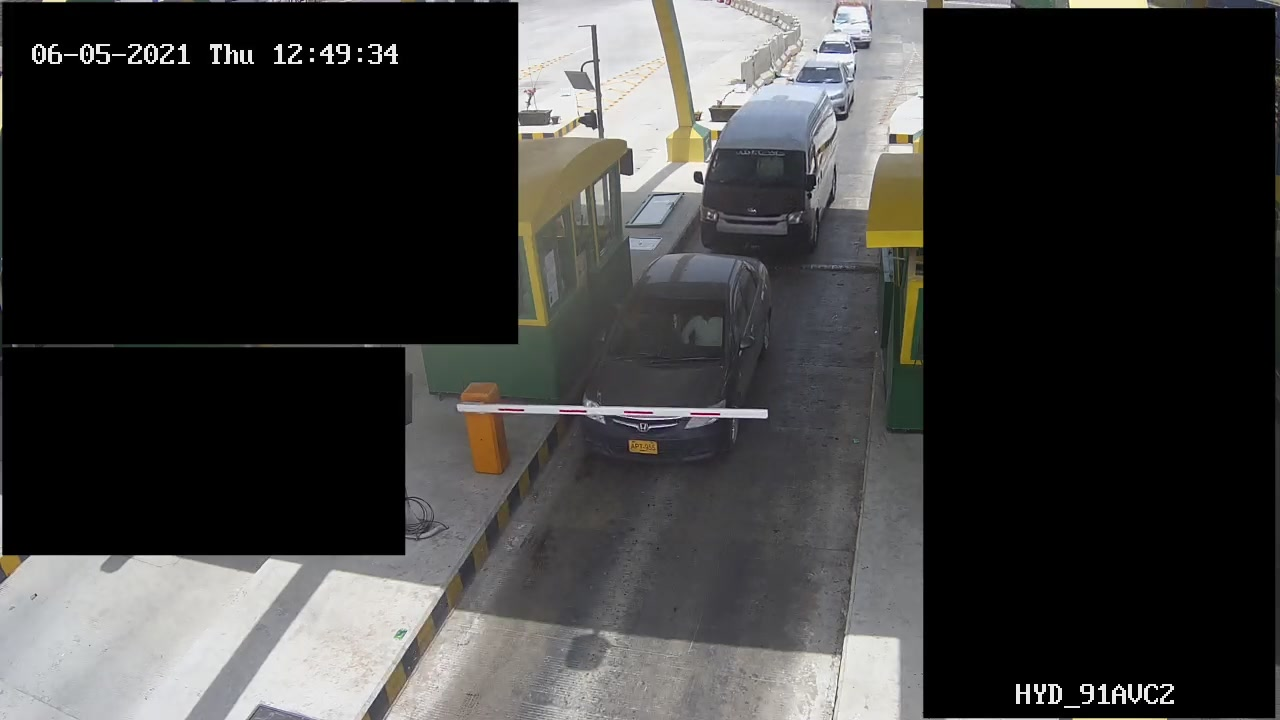F1: (582, 244, 772, 453)
F2: (699, 79, 842, 262)
